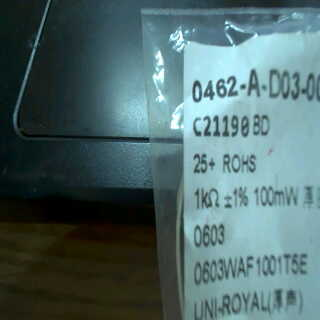1kR: (194, 182, 220, 213)
